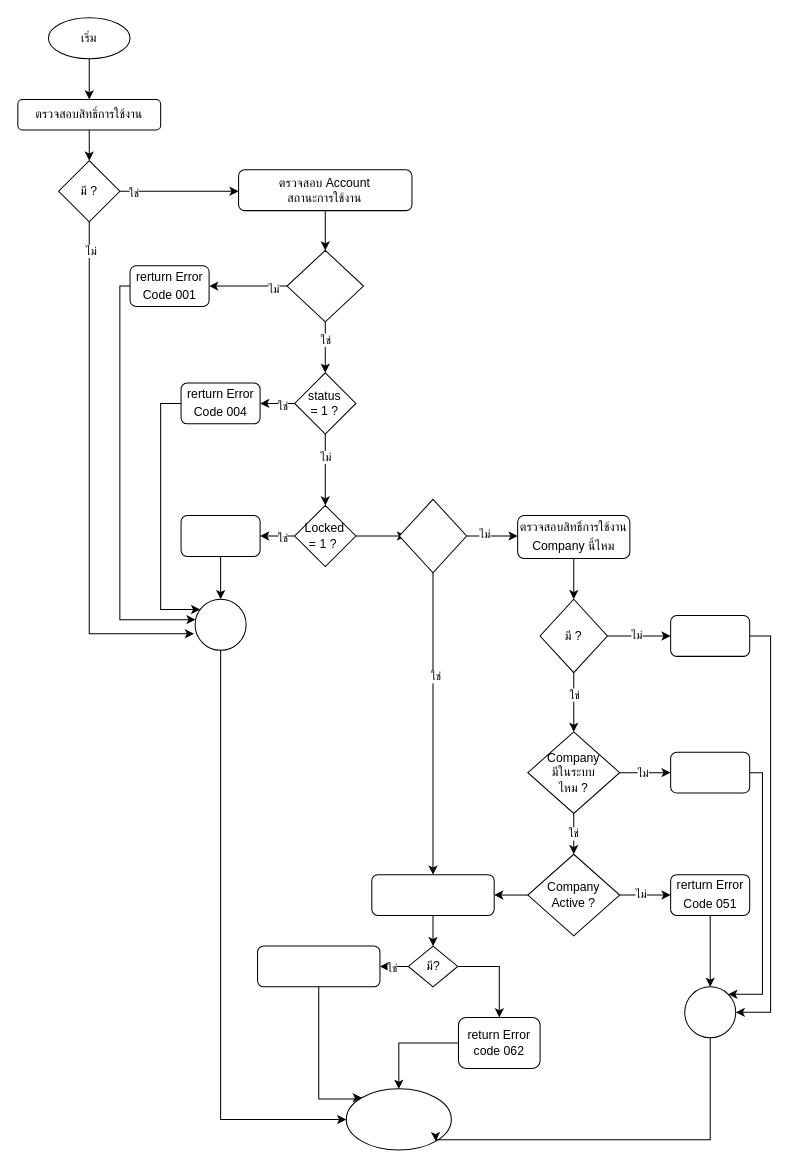
Some shapes in this 797 by 1168 pixel diagram are drawn without their labels. The shapes that lost their labels are listed below. From the top down, each one's centre as x and y in pixels, then its label:
At (x=325, y=285): "มีใน ระบบ ?".
At (x=220, y=535): "rerturn Error Code 011".
At (x=432, y=535): "Super Admin ?".
At (x=710, y=635): "rerturn Error Code 002".
At (x=710, y=772): "rerturn Error Code 007".
At (x=432, y=894): "ดึงข้อมูลหัวข้อ ข้อมูลสำคัญทางการเงิน".
At (x=318, y=966): "ส่งกลับข้อมูลหัวข้อ ข้อมูลสำคัญทางการเงิน".
At (x=398, y=1119): "สิ้นสุด".
